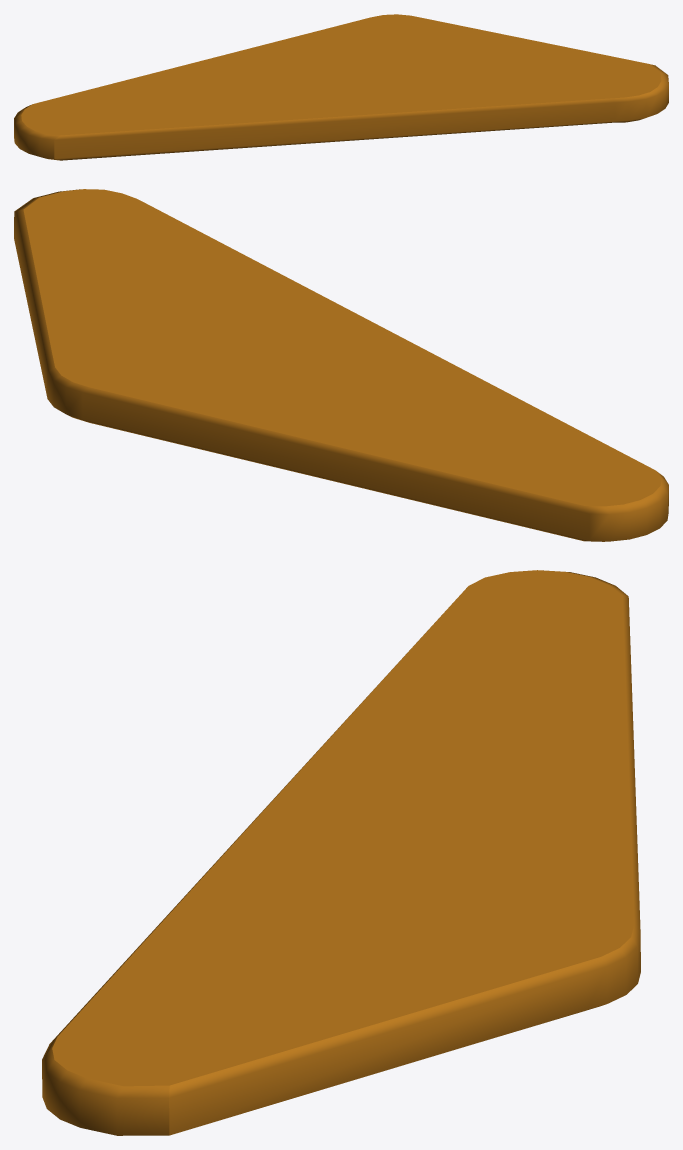
The model's file is Slingshot.fbx.
3 renders of one model, top to bottom at view 1: azimuth 30°, elevation 25°; view 2: azimuth 150°, elevation 25°; view 3: azimuth 270°, elevation 25°, orthographic. The views are drawn at different scales.
Visible parts, largest first — view 1: Slingshot; view 2: Slingshot; view 3: Slingshot.
Boxes of the visible parts, x1,y1,x2,y2 form: Slingshot: (14, 14, 668, 160); Slingshot: (14, 189, 668, 541); Slingshot: (42, 570, 640, 1135).
Bounding box in the file's own units: 11.08 × 0.5181 × 5.3.
